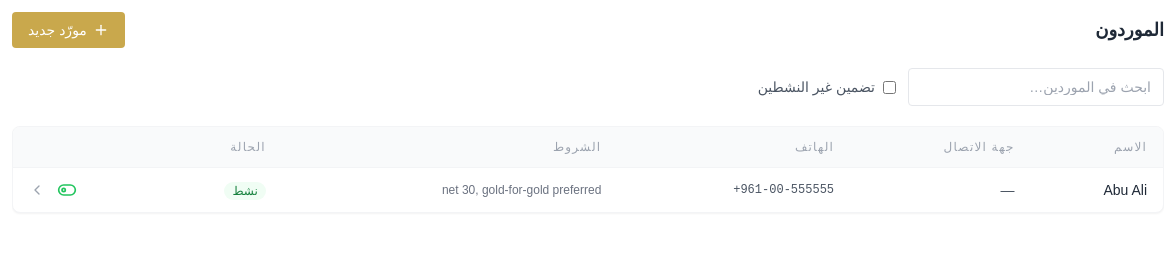
it: suppliers list labels and i18n (NEX-64) › every directional icon flips in RTL, the on / off toggles included
Click the checkbox labelled "تضمين غير النشطين" at (890, 87), box [883,80,896,94]
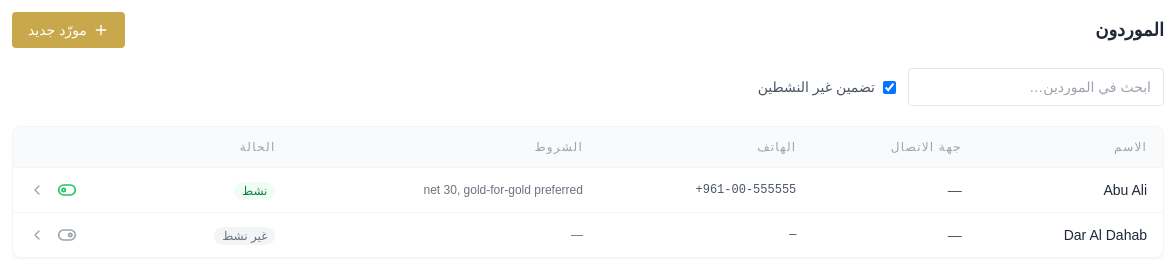
Check: the button named "إعادة تفعيل" is shown, box [57,225,77,245]
Check: the text "غير نشط" is shown, box [214,227,275,245]
